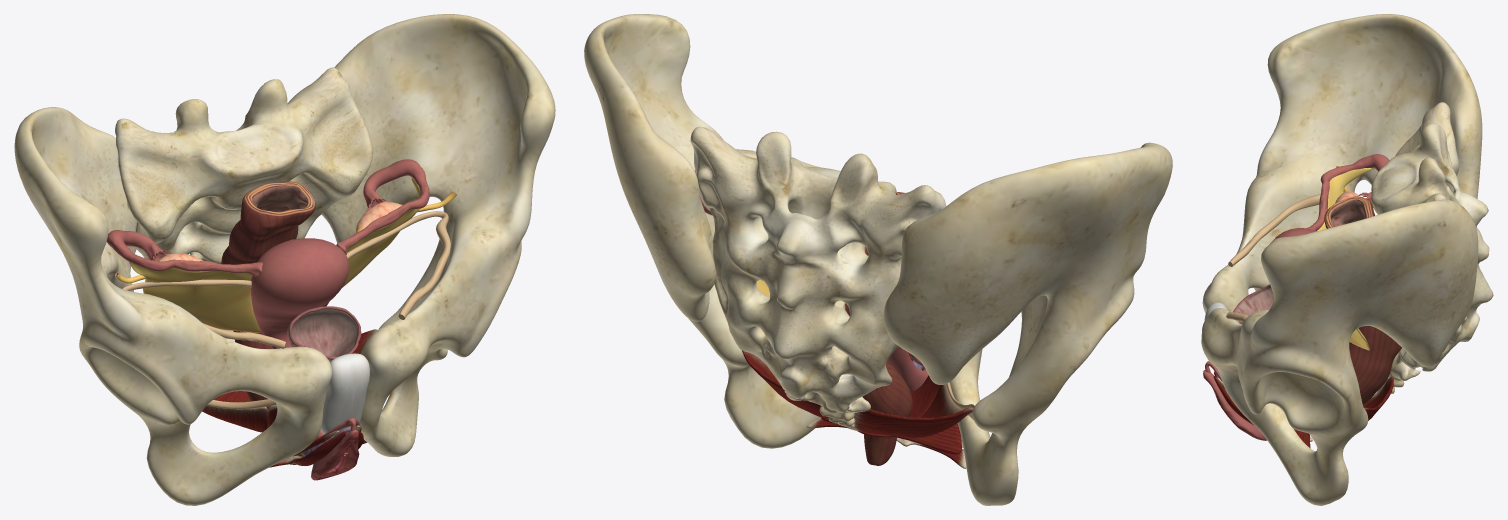
The model's file is female_reproductive_system.glb.
The picture shows the model from 3 angles, left to right: view 1: azimuth 30°, elevation 25°; view 2: azimuth 150°, elevation 25°; view 3: azimuth 270°, elevation 25°; orthographic projection. The views are drawn at different scales.
Visible parts, largest first — view 1: Pelvis_Edit, Sacrum_Edit, UterusVagina, Broad_Ligament_FNL, Merged_Colon_Rectum_Anus2, Fallopian_Edits, RoundLigament, Bladder_1, illiococcygeus, Ovaries_Edit, Superficial_Transverse_Perineal, Uterus_CutAway_FNL; view 2: Pelvis_Edit, Sacrum_Edit, illiococcygeus, Merged_Colon_Rectum_Anus2, Deep_Transverse_Perineal, UterusVagina, Pubococcygeus; view 3: Pelvis_Edit, Sacrum_Edit, Merged_Colon_Rectum_Anus2, Fallopian_Edits, RoundLigament, UterusVagina, Broad_Ligament_FNL, Bladder_1, illiococcygeus.
Boxes of the visible parts, bbox=[...] form: Pelvis_Edit: bbox=[14, 14, 555, 505]; Sacrum_Edit: bbox=[115, 67, 372, 341]; UterusVagina: bbox=[250, 238, 359, 480]; Broad_Ligament_FNL: bbox=[129, 177, 420, 332]; Merged_Colon_Rectum_Anus2: bbox=[221, 181, 315, 464]; Fallopian_Edits: bbox=[106, 159, 429, 276]; RoundLigament: bbox=[123, 211, 450, 348]; Bladder_1: bbox=[287, 306, 361, 452]; illiococcygeus: bbox=[202, 329, 376, 432]; Ovaries_Edit: bbox=[115, 191, 457, 283]; Superficial_Transverse_Perineal: bbox=[269, 429, 367, 467]; Uterus_CutAway_FNL: bbox=[259, 239, 328, 470]; Pelvis_Edit: bbox=[584, 14, 1172, 505]; Sacrum_Edit: bbox=[690, 126, 946, 428]; illiococcygeus: bbox=[742, 350, 973, 437]; Merged_Colon_Rectum_Anus2: bbox=[845, 192, 912, 465]; Deep_Transverse_Perineal: bbox=[821, 352, 961, 454]; UterusVagina: bbox=[887, 192, 928, 391]; Pubococcygeus: bbox=[909, 375, 939, 417]; Pelvis_Edit: bbox=[1201, 14, 1482, 505]; Sacrum_Edit: bbox=[1371, 102, 1493, 393]; Merged_Colon_Rectum_Anus2: bbox=[1324, 196, 1401, 404]; Fallopian_Edits: bbox=[1306, 154, 1389, 230]; RoundLigament: bbox=[1226, 189, 1350, 322]; UterusVagina: bbox=[1203, 228, 1316, 440]; Broad_Ligament_FNL: bbox=[1317, 168, 1371, 350]; Bladder_1: bbox=[1233, 284, 1273, 324]; illiococcygeus: bbox=[1363, 375, 1393, 420].
Size of the model in its own units: 0.2802 by 0.2058 by 0.1572.
11 materials, 11 textured.
